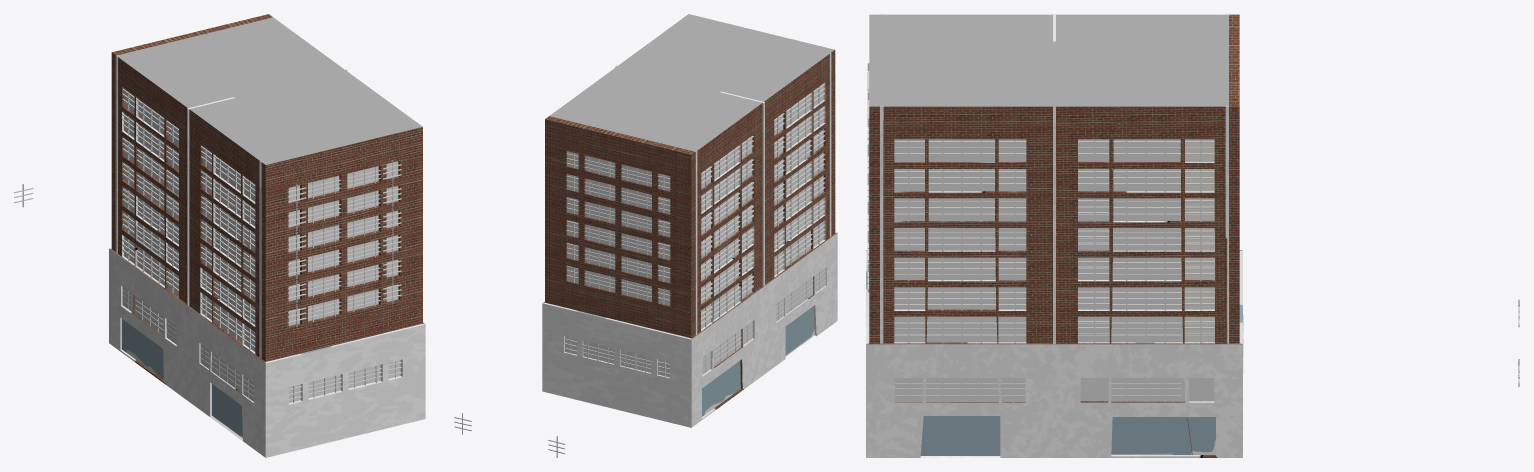
File: building1.fbx
3 views of the same model, side by side, from view 1: azimuth 30°, elevation 25°; view 2: azimuth 150°, elevation 25°; view 3: azimuth 270°, elevation 25° (orthographic). The views are drawn at different scales.
Parts seen in each view (by area): view 1: Kubus.013, Kubus.072, Kubus.014, Kubus.064, Kubus.107, Kubus.067, Kubus.016, Kubus.015, Kubus.018, Kubus.065, Kubus.017; view 2: Kubus.013, Kubus.072, Kubus.014, Kubus.068, Kubus.107, Kubus.016, Kubus.018, Kubus.071, Kubus.015, Kubus.069, Kubus.017; view 3: Kubus.013, Kubus.072, Kubus.014, Kubus.107, Kubus.016, Kubus.015, Kubus.018, Kubus.017, Kubus.067.
Boxes of the visible parts, <box> form: Kubus.013: <box>109,14,425,457</box>; Kubus.072: <box>122,88,400,402</box>; Kubus.014: <box>136,99,241,339</box>; Kubus.064: <box>308,166,380,321</box>; Kubus.107: <box>122,319,242,438</box>; Kubus.067: <box>288,160,401,327</box>; Kubus.016: <box>200,146,255,349</box>; Kubus.015: <box>122,88,178,293</box>; Kubus.018: <box>122,138,178,341</box>; Kubus.065: <box>308,365,381,397</box>; Kubus.017: <box>135,299,240,387</box>; Kubus.013: <box>542,14,837,427</box>; Kubus.072: <box>565,83,825,377</box>; Kubus.014: <box>713,93,812,317</box>; Kubus.068: <box>584,156,651,300</box>; Kubus.107: <box>702,306,814,416</box>; Kubus.016: <box>774,83,825,274</box>; Kubus.018: <box>701,182,753,372</box>; Kubus.071: <box>566,152,670,304</box>; Kubus.015: <box>701,136,753,327</box>; Kubus.069: <box>579,341,654,372</box>; Kubus.017: <box>714,280,813,362</box>; Kubus.013: <box>866,14,1242,457</box>; Kubus.072: <box>894,139,1214,401</box>; Kubus.014: <box>926,139,1181,343</box>; Kubus.107: <box>920,416,1215,455</box>; Kubus.016: <box>894,139,1026,343</box>; Kubus.015: <box>1078,139,1214,343</box>; Kubus.018: <box>1078,199,1214,401</box>; Kubus.017: <box>926,378,1181,401</box>; Kubus.067: <box>867,63,869,292</box>.
Bounding box in the file's own units: 3336 × 5812 × 9832.
